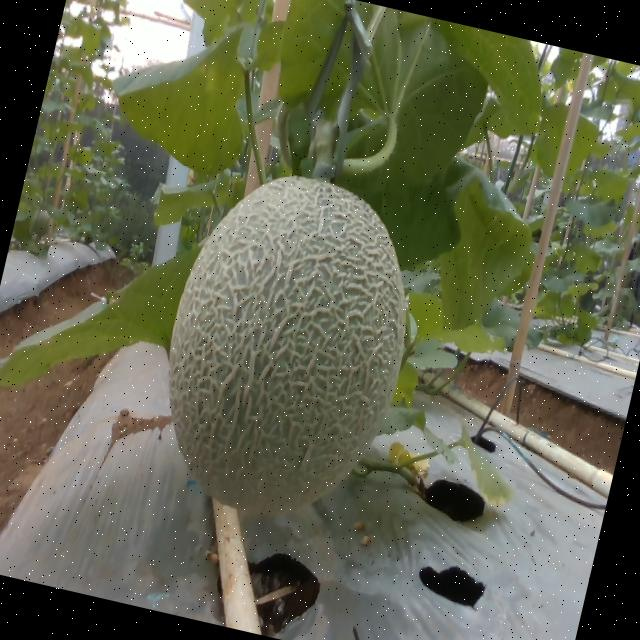melon: (170, 176, 406, 514)
